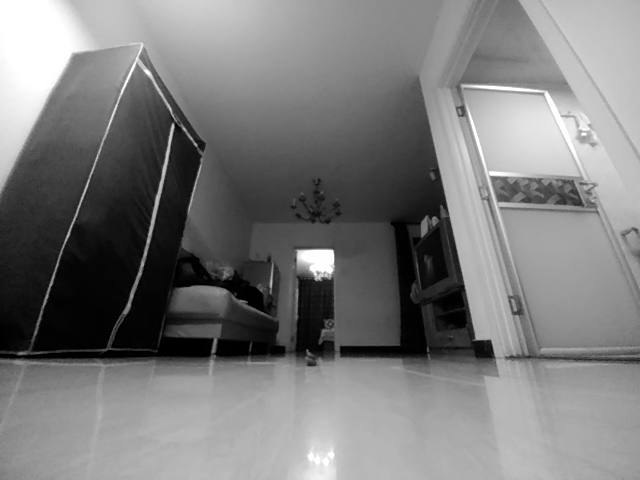curtain: (295, 276, 321, 353)
pet feces: (304, 348, 318, 369)
